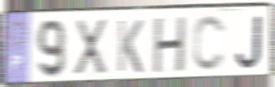9: (34, 18, 68, 81)
C: (191, 14, 228, 74)
H: (151, 15, 188, 77)
J: (234, 14, 264, 71)
K: (116, 18, 145, 75)
X: (72, 17, 108, 78)
